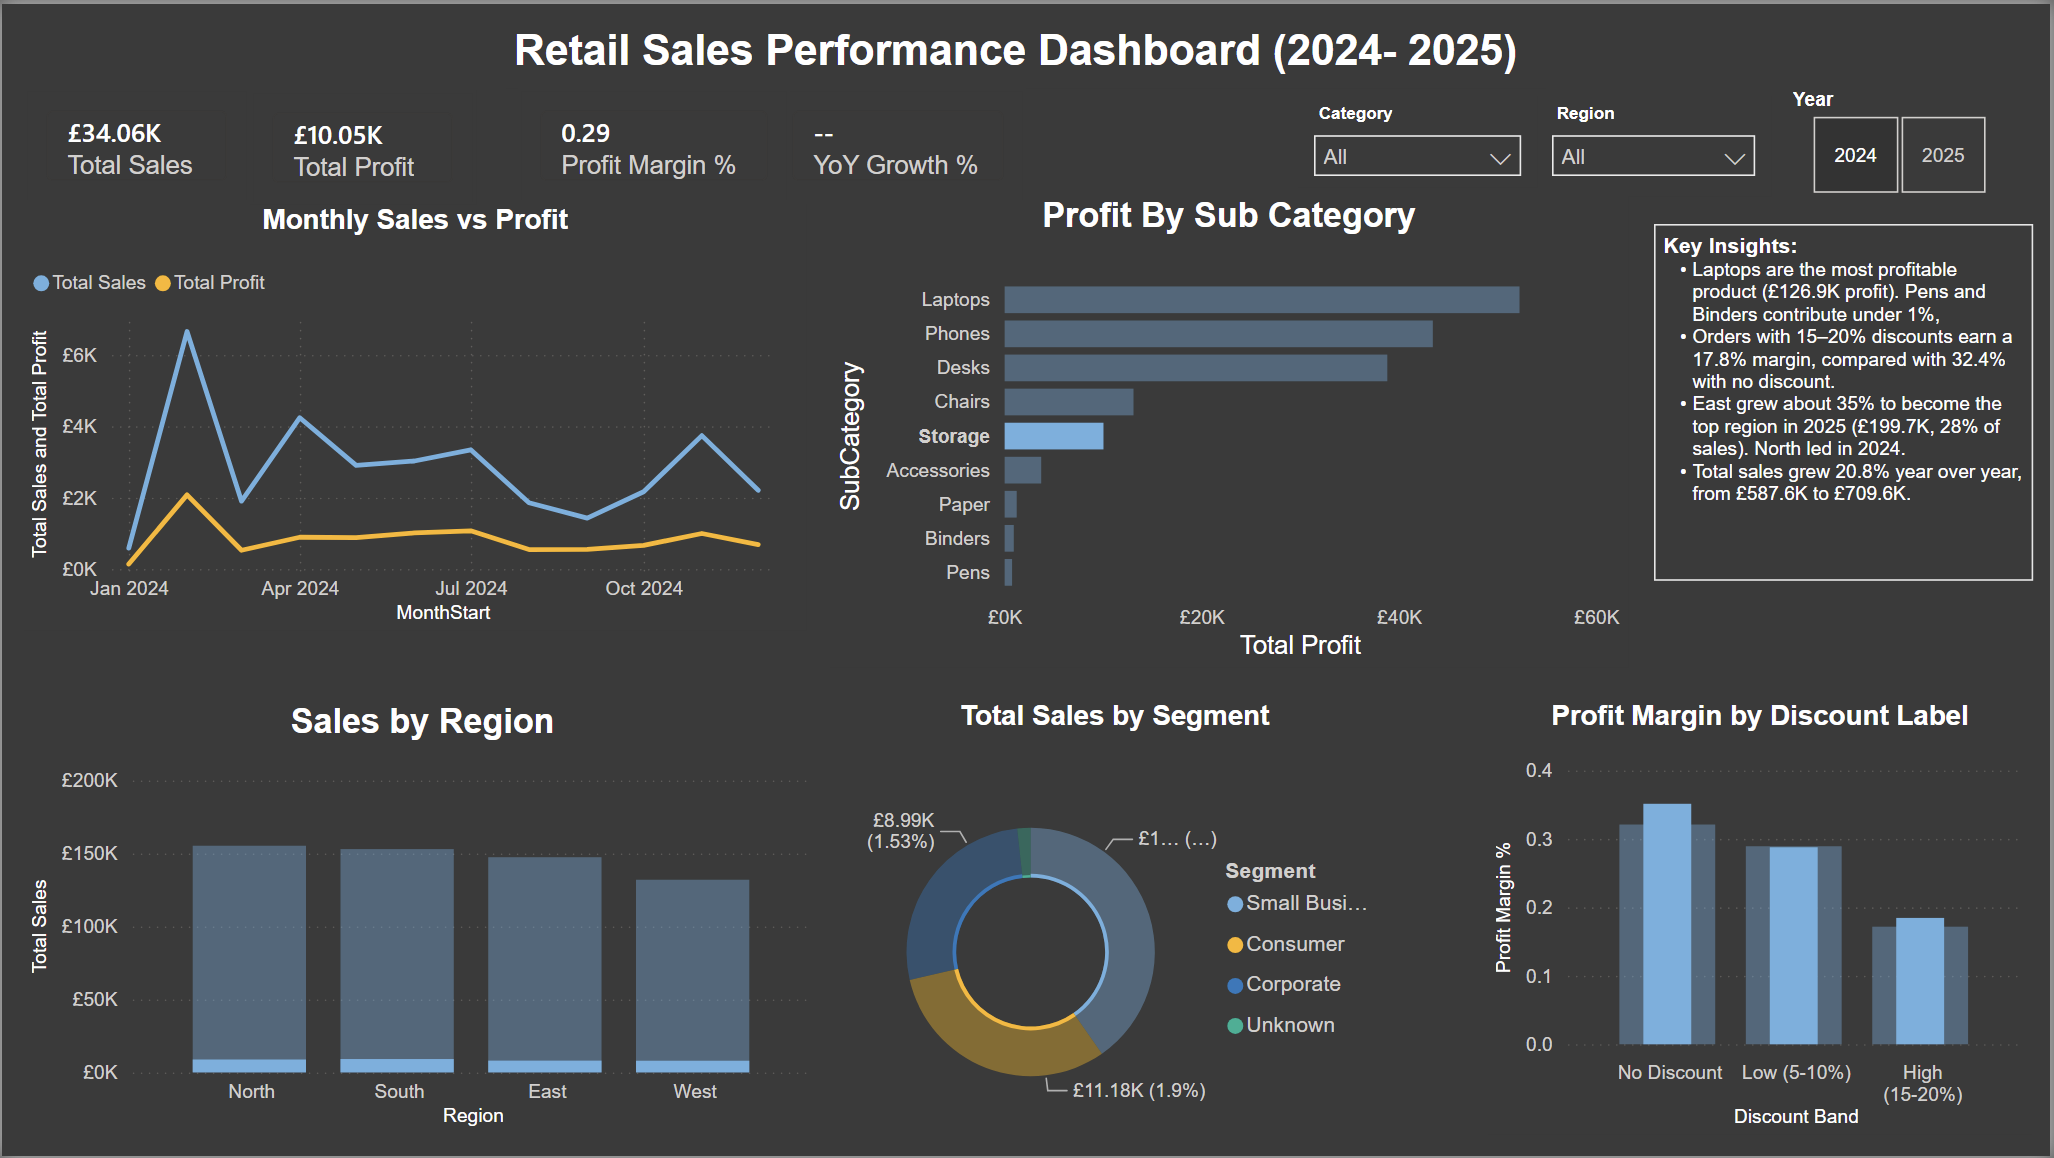

Layout of this report page (visuals, bound fields, positions):
{"tool":"powerbi","page":{"name":"Sales Overview","canvas":[1280,720],"ordinal":0},"visuals":[{"type":"textbox","box":[315,8.8,650,43.8],"z":4},{"type":"slicer","fields":{"Values":["Date.Year"]},"box":[1105.7,47.1,157.5,77.5],"z":5},{"type":"slicer","fields":{"Values":["Sales.Region"]},"box":[958.6,57.1,147.1,62.9],"z":6},{"type":"slicer","fields":{"Values":["Sales.Category"]},"box":[810,57.1,149.3,57.1],"z":7},{"type":"cardVisual","fields":{"Data":["Sales.Total Sales"]},"box":[14,53,141,71],"z":8},{"type":"lineChart","title":"Monthly Sales vs Profit","fields":{"Category":["Date.MonthStart"],"Y":["Sales.Total Sales","Sales.Total Profit"]},"box":[13.3,125,488.9,266.7],"z":11},{"type":"clusteredBarChart","title":"Profit By Sub Category","fields":{"Category":["Sales.SubCategory"],"Y":["Sales.Total Profit"]},"box":[517.1,120,498.9,294.4],"z":12},{"type":"clusteredColumnChart","title":"Sales by Region","fields":{"Category":["Sales.Region"],"Y":["Sales.Total Sales"]},"box":[13.3,436.7,498.3,270],"z":13},{"type":"donutChart","fields":{"Category":["Sales.Segment"],"Y":["Sales.Total Sales"]},"box":[516.7,435,358.3,285],"z":14},{"type":"clusteredColumnChart","title":"Profit Margin by Discount Label","fields":{"Category":["Sales.Discount Band"],"Y":["Sales.Profit Margin %"]},"box":[928.3,435,340,271.7],"z":15},{"type":"cardVisual","fields":{"Data":["Sales.YoY Growth %"]},"box":[480,53,160,71],"z":16},{"type":"cardVisual","fields":{"Data":["Sales.Profit Margin %"]},"box":[322,53,170,71],"z":17},{"type":"cardVisual","fields":{"Data":["Sales.Total Profit"]},"box":[155,53.8,141.2,71.2],"z":18},{"type":"textbox","box":[1032.9,137.1,237.1,222.9],"z":19}]}

Visuals, with their boxes in screenshot pixels (x1, y1, x2, y2), scaled from the page's 1280x720 canvas onto the 2054x1158 screenshot:
textbox: locate(505, 14, 1549, 85)
slicer - Date.Year: locate(1774, 76, 2027, 200)
slicer - Sales.Region: locate(1538, 92, 1774, 193)
slicer - Sales.Category: locate(1300, 92, 1539, 184)
cardVisual - Sales.Total Sales: locate(22, 85, 249, 199)
"Monthly Sales vs Profit" lineChart: locate(21, 201, 806, 630)
"Profit By Sub Category" clusteredBarChart: locate(830, 193, 1630, 666)
"Sales by Region" clusteredColumnChart: locate(21, 702, 821, 1137)
donutChart - Sales.Segment x Sales.Total Sales: locate(829, 700, 1404, 1157)
"Profit Margin by Discount Label" clusteredColumnChart: locate(1490, 700, 2035, 1137)
cardVisual - Sales.YoY Growth %: locate(770, 85, 1027, 199)
cardVisual - Sales.Profit Margin %: locate(517, 85, 790, 199)
cardVisual - Sales.Total Profit: locate(249, 87, 475, 201)
textbox: locate(1657, 221, 2038, 579)
